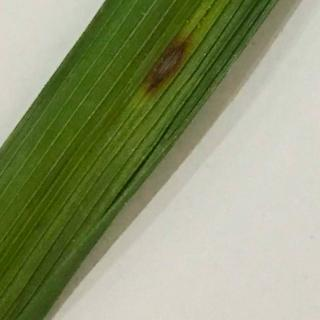Blast: (130, 9, 212, 124)
